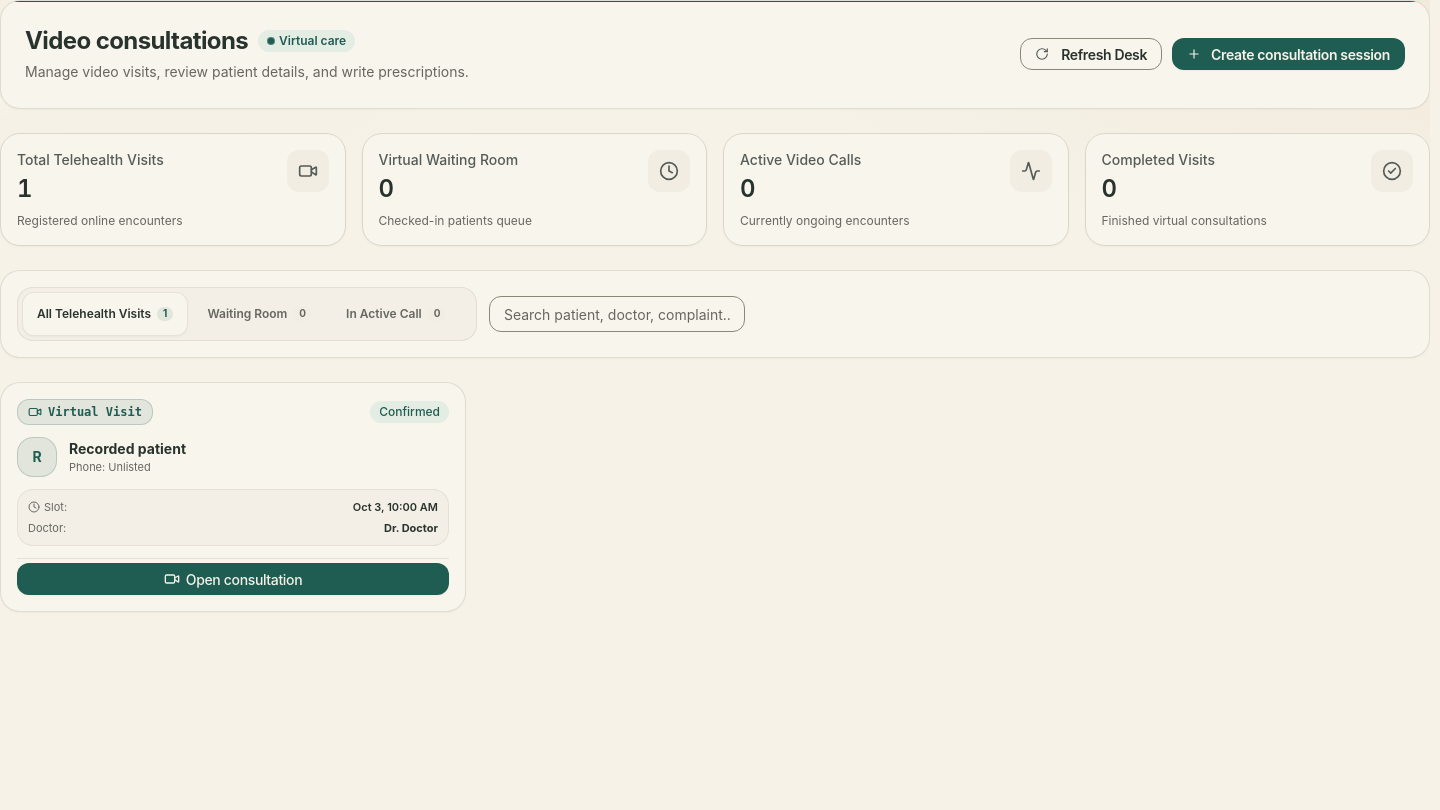
Test: uses the configured meeting URL and reports a clipboard failure accurately
The width and height of the screenshot is (1440, 810).
Click the button "Open consultation" at (233, 579), box [17,563,449,595]
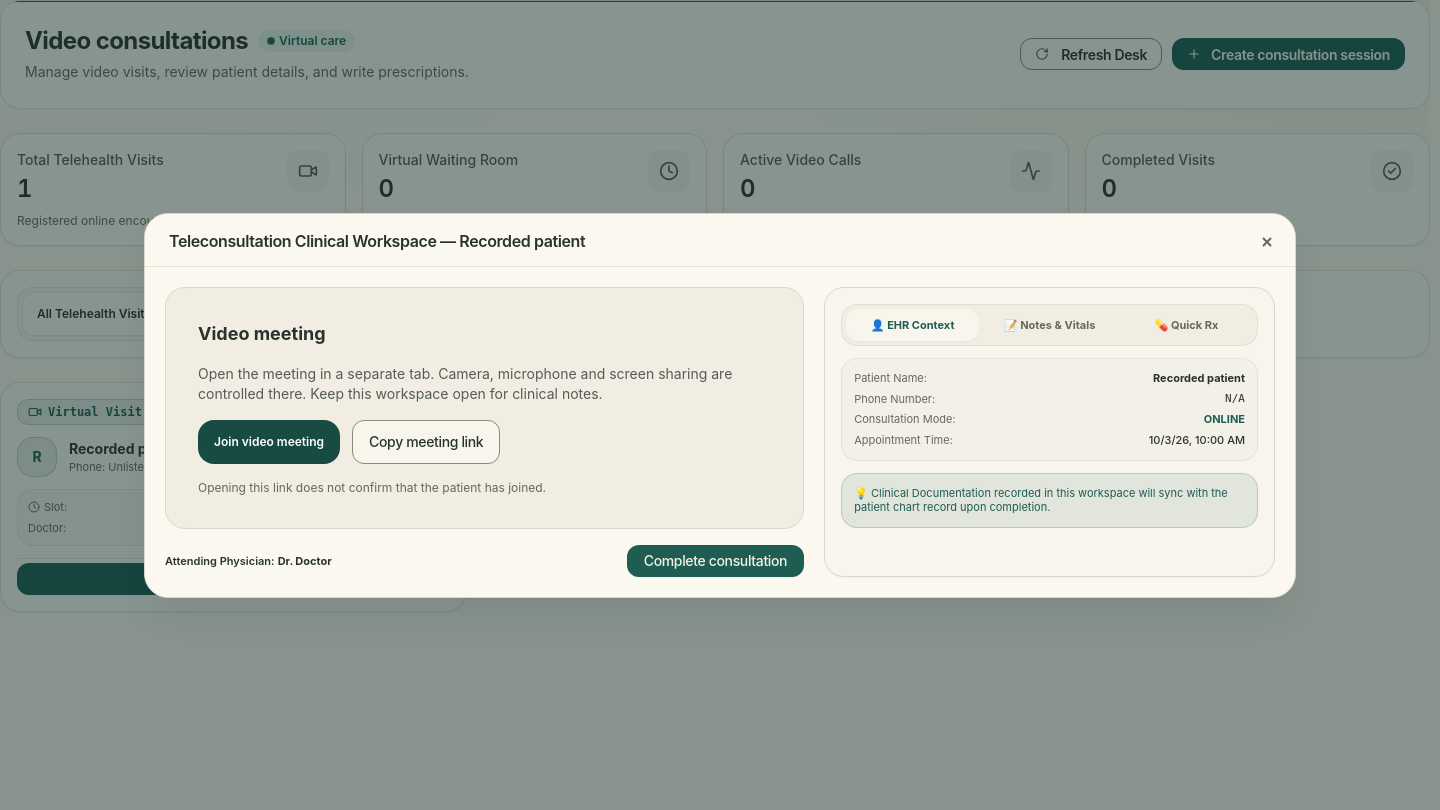
Click the button "Copy meeting link" at (426, 442), box [352,420,500,464]
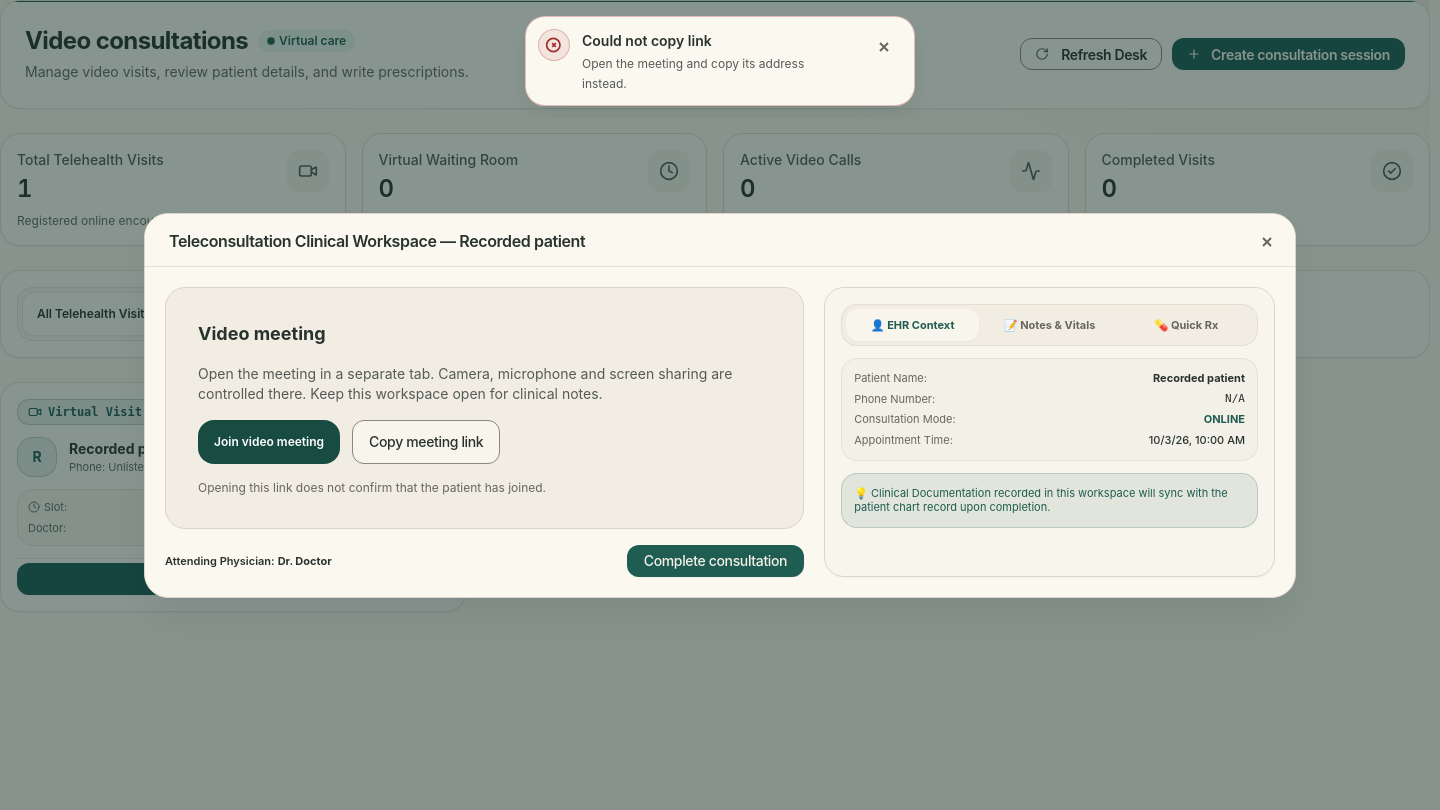
Check: the text "Could not copy link" is shown, box [582,32,712,49]
